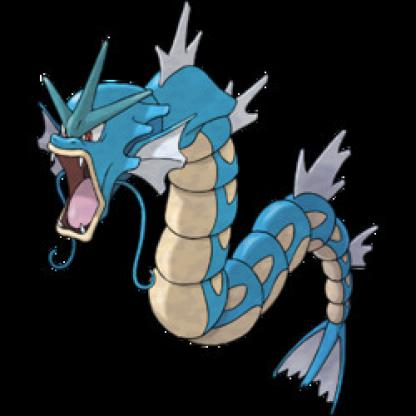Gyarados: (27, 32, 374, 416)
